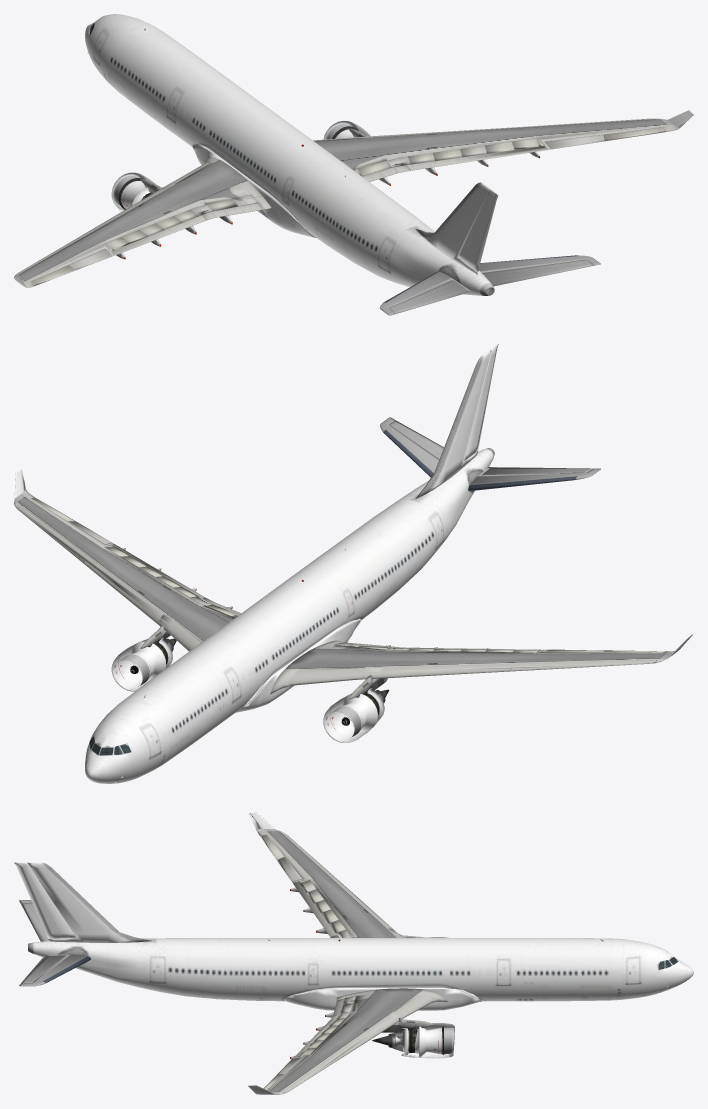
3 views of the same model, one above another, from view 1: azimuth 30°, elevation 25°; view 2: azimuth 150°, elevation 25°; view 3: azimuth 270°, elevation 25° (orthographic). The views are drawn at different scales.
Parts seen in each view (by area): view 1: winglet0, wing_in0, elevator0, ge_nacelle0; view 2: winglet0, wing_in0, elevator0, ge_nacelle0, ge_exhaust0; view 3: winglet0, wing_in0, elevator0, ge_nacelle0, ge_exhaust0.
Boxes of the visible parts, x1,y1,x2,y2 form: winglet0: (14, 14, 693, 295); wing_in0: (14, 118, 679, 287); elevator0: (380, 255, 600, 315); ge_nacelle0: (117, 123, 370, 211); winglet0: (14, 344, 693, 783); wing_in0: (14, 490, 674, 694); elevator0: (380, 417, 600, 491); ge_nacelle0: (112, 637, 384, 742); ge_exhaust0: (140, 624, 389, 703); winglet0: (14, 812, 693, 1094); wing_in0: (256, 829, 447, 1094); elevator0: (19, 900, 90, 986); ge_nacelle0: (401, 937, 451, 1058); ge_exhaust0: (372, 934, 435, 1051).
Size of the model in its own units: 59.91 by 15.52 by 63.05.
18 materials, 14 textured.
